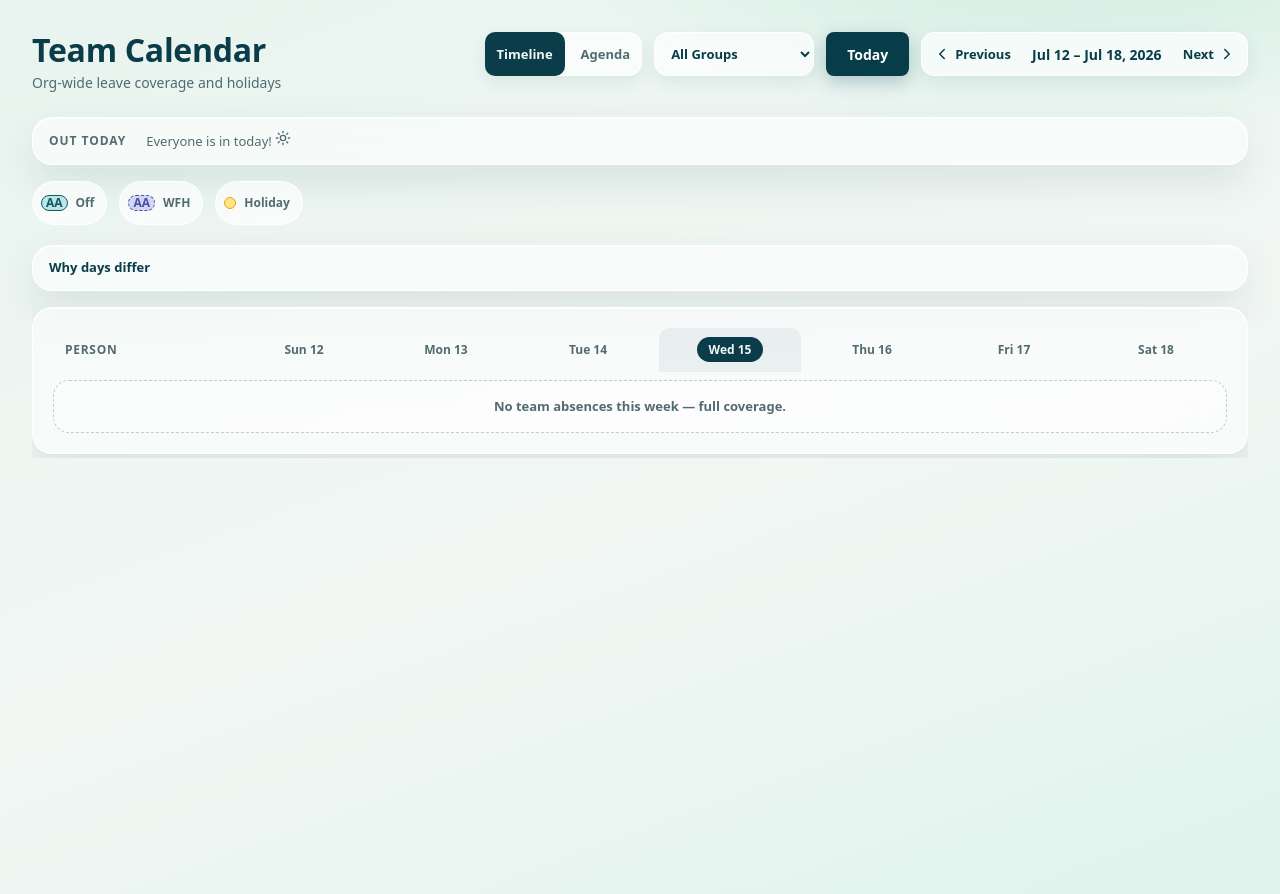
Test: TeamCalendarPage › [P1] preserves a historical Timeline period when switching to Agenda
Check: the text "Jul 12 – Jul 18, 2026" is shown, box [1032,44,1162,64]
Step 1. Click the button with test id "calendar-prev-week" → point(972, 54), box [921,32,1023,76]
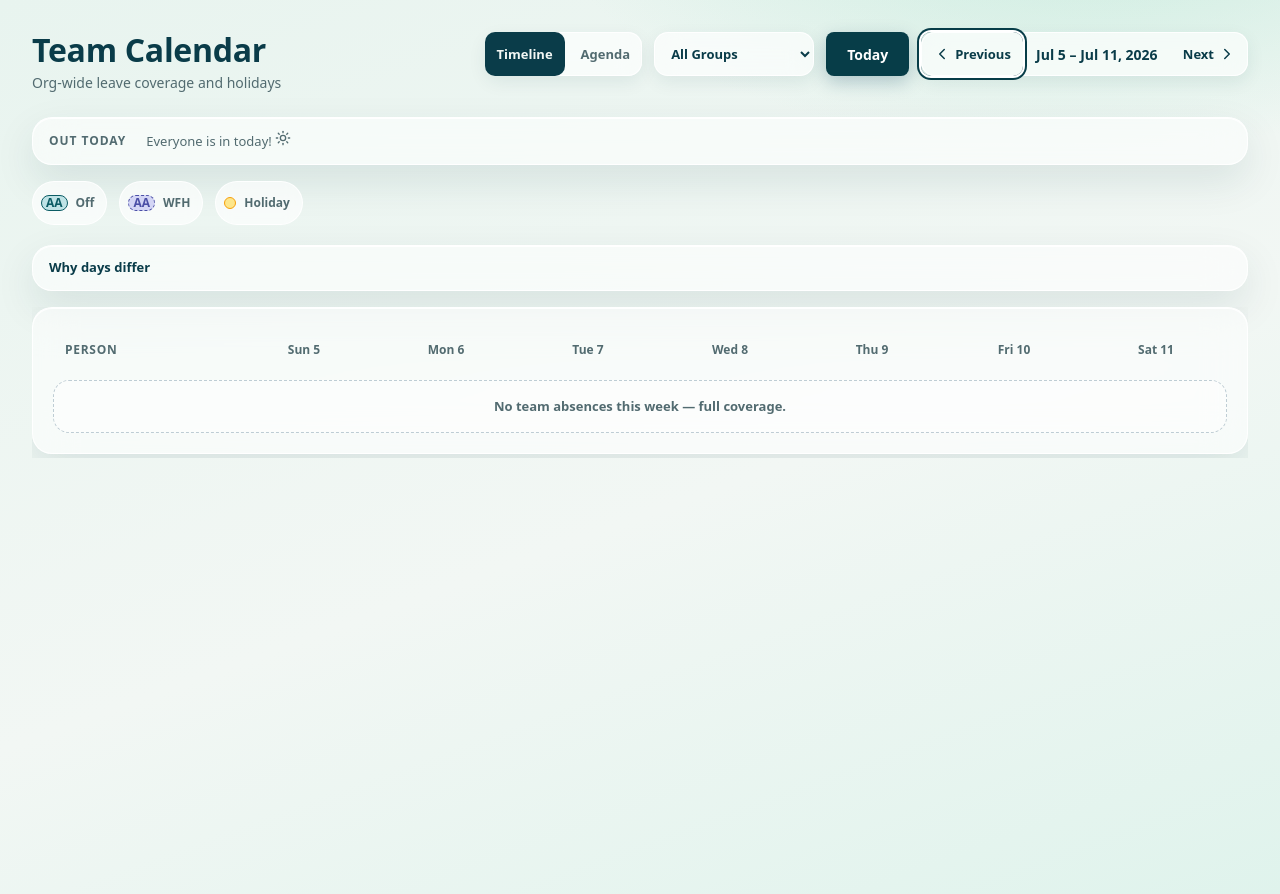
Step 2. Click the button with test id "calendar-prev-week" → point(972, 54), box [921,32,1023,76]
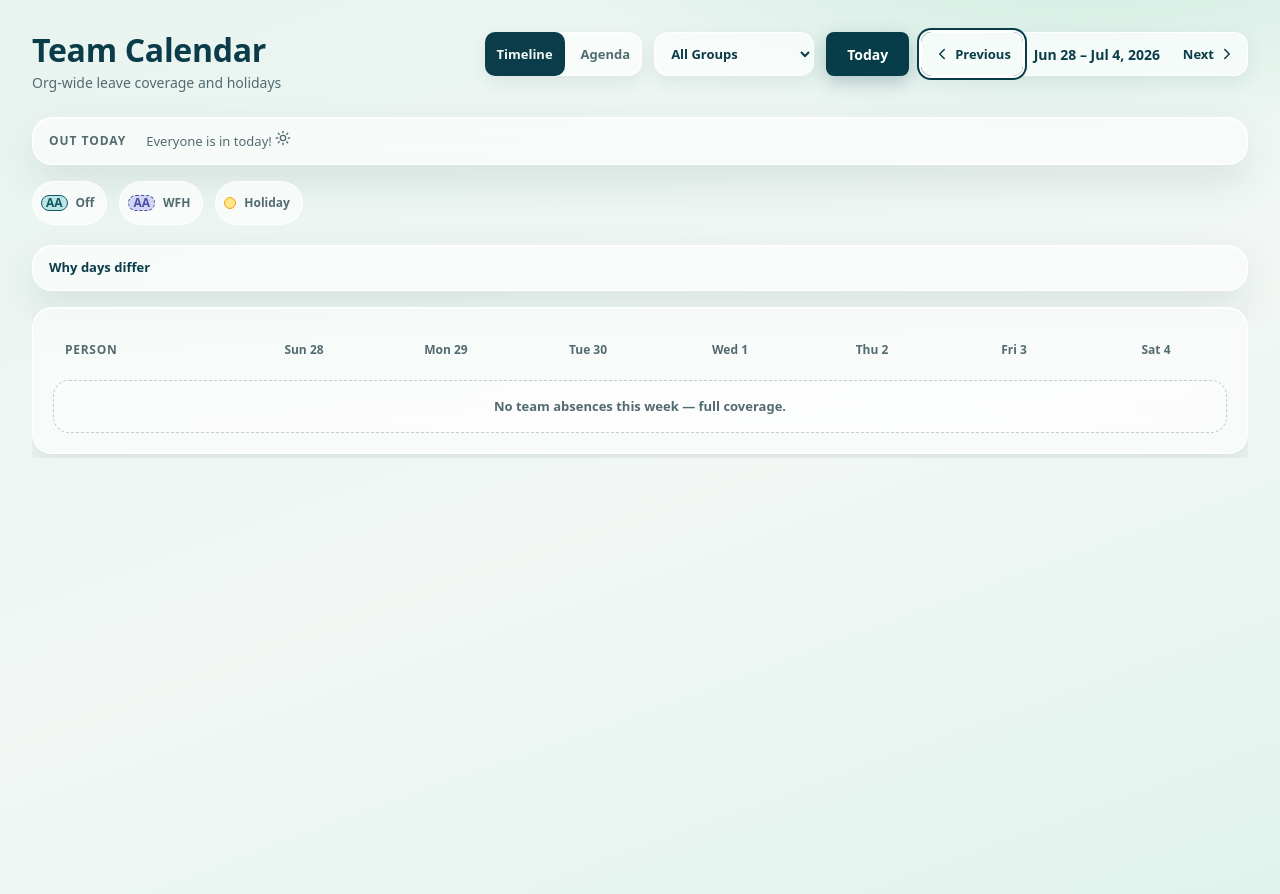
Step 3. Click the button with test id "calendar-prev-week" → point(972, 54), box [921,32,1023,76]
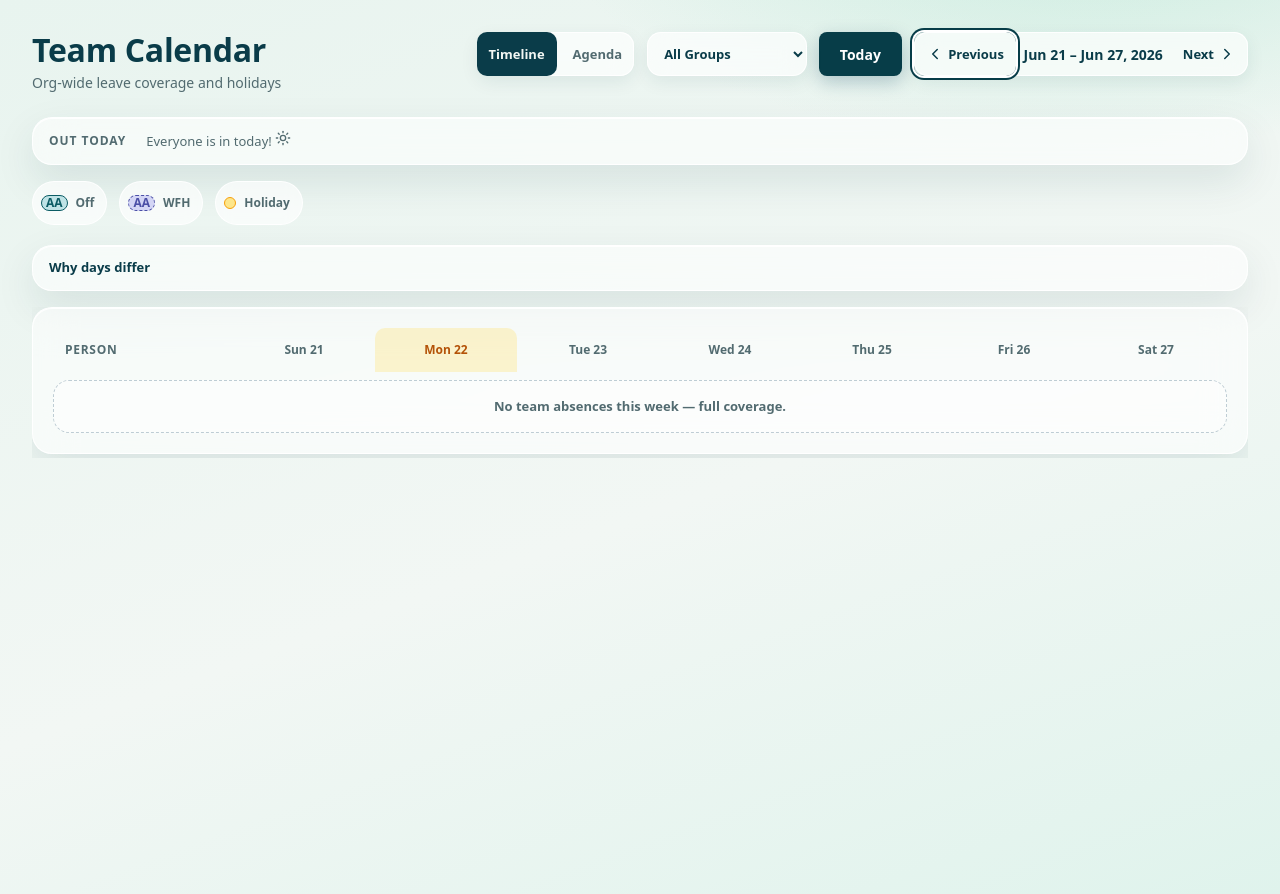
Step 4. Click the button with test id "calendar-prev-week" → point(965, 54), box [914,32,1016,76]
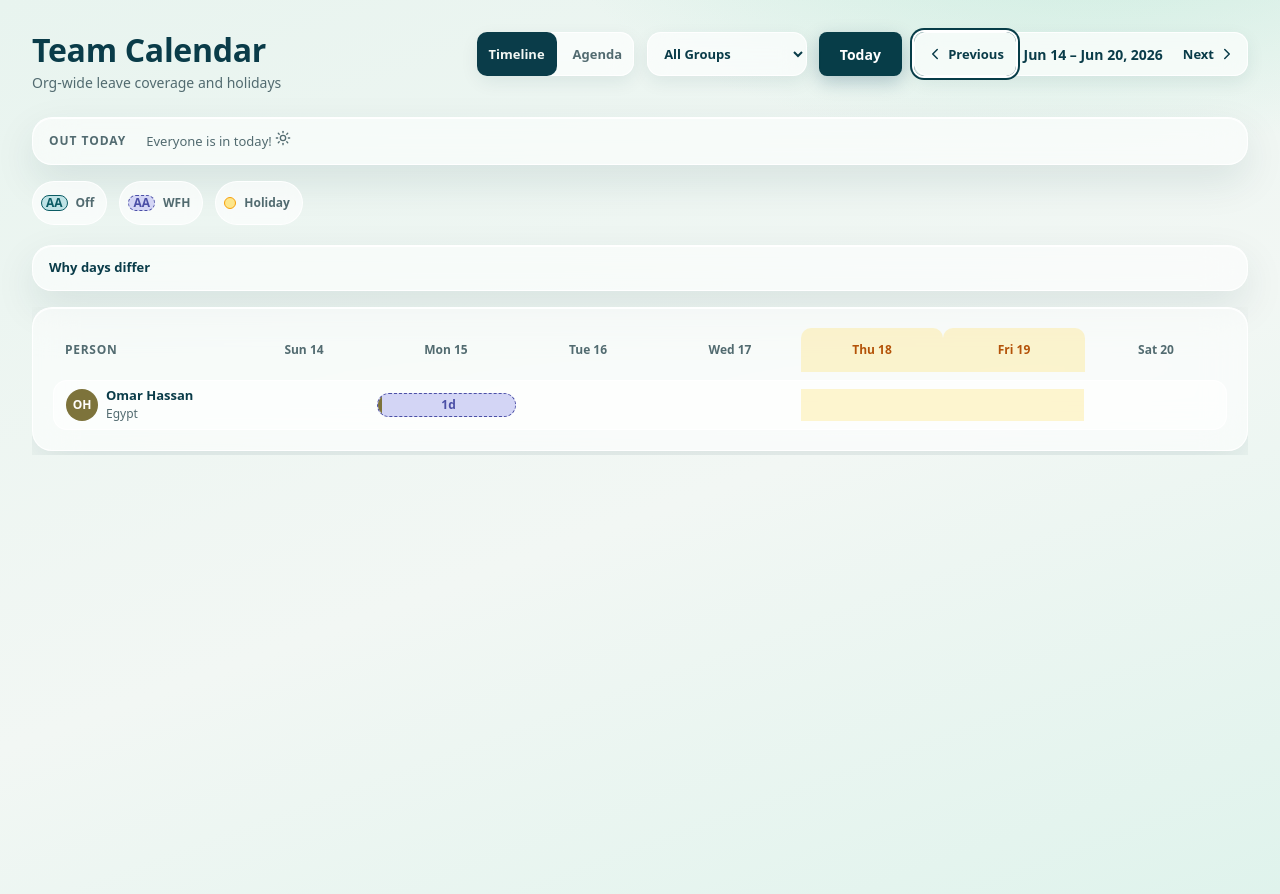
Check: the text "Jun 14 – Jun 20, 2026" is shown, box [1024,44,1163,64]
Step 5. Click the button "Agenda" → point(598, 54), box [561,32,635,76]
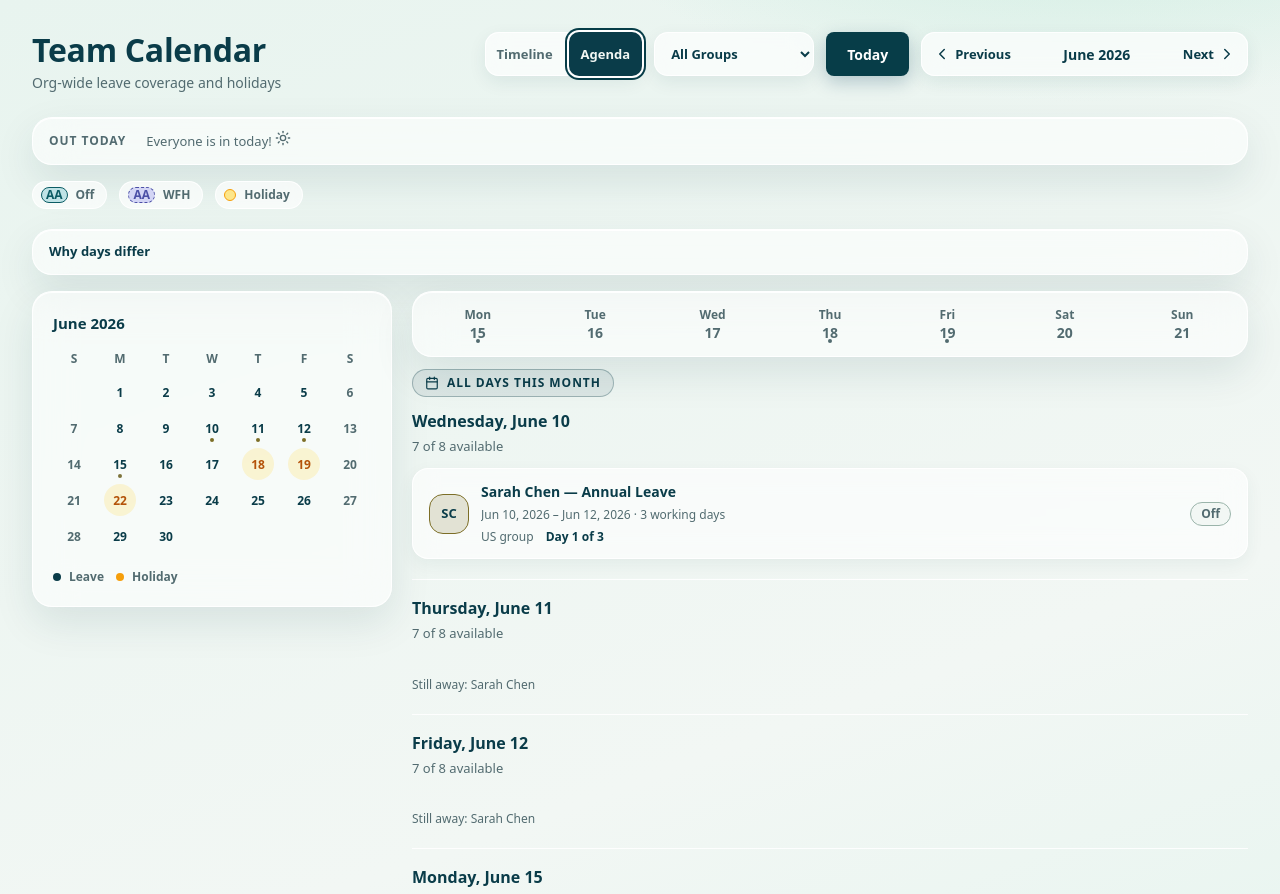
Check: the element with test id "calendar-mini-month" shows "June 2026", box [53,313,125,333]
Check: the text "Sarah Chen — Annual Leave" is shown, box [481,482,676,501]
